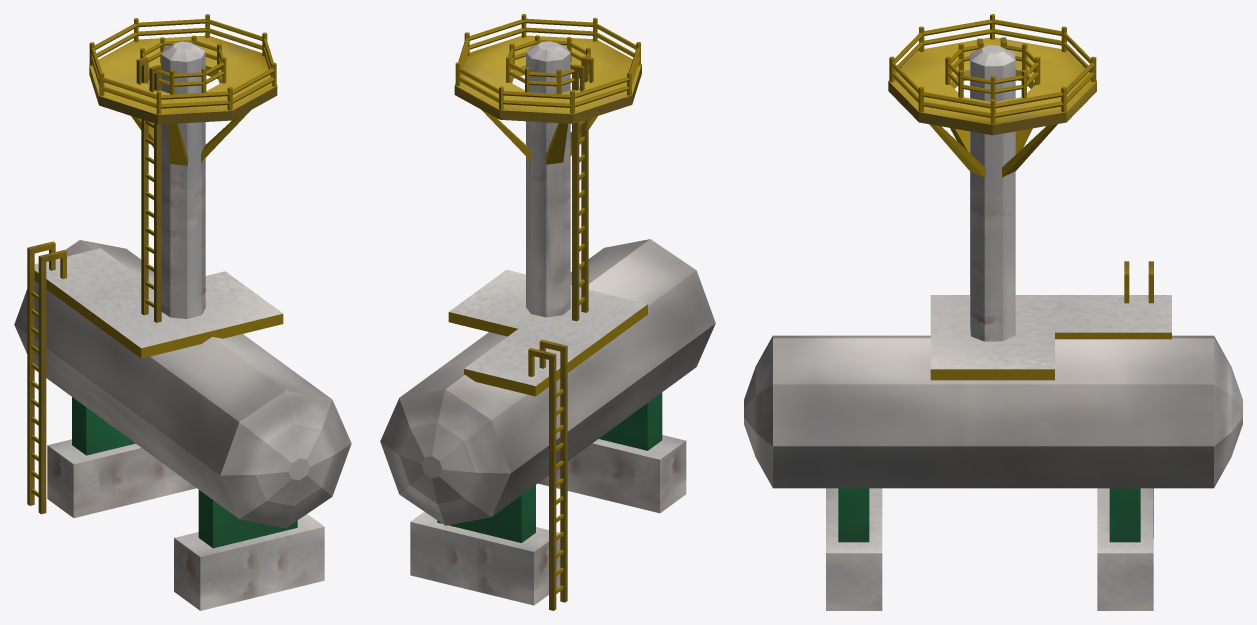
File: torrearmz2.fbx
3 views of the same model, side by side, from view 1: azimuth 30°, elevation 25°; view 2: azimuth 150°, elevation 25°; view 3: azimuth 270°, elevation 25° (orthographic). The views are drawn at different scales.
Parts seen in each view (by area): view 1: Cube.001; view 2: Cube.001; view 3: Cube.001.
Boxes of the visible parts, x1,y1,x2,y2 form: Cube.001: (14, 14, 351, 610); Cube.001: (380, 14, 715, 610); Cube.001: (744, 14, 1242, 610).
Size of the model in its own units: 336 by 939 by 803.
